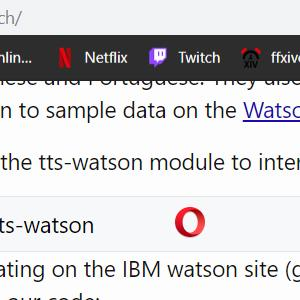opera: (175, 206, 205, 237)
